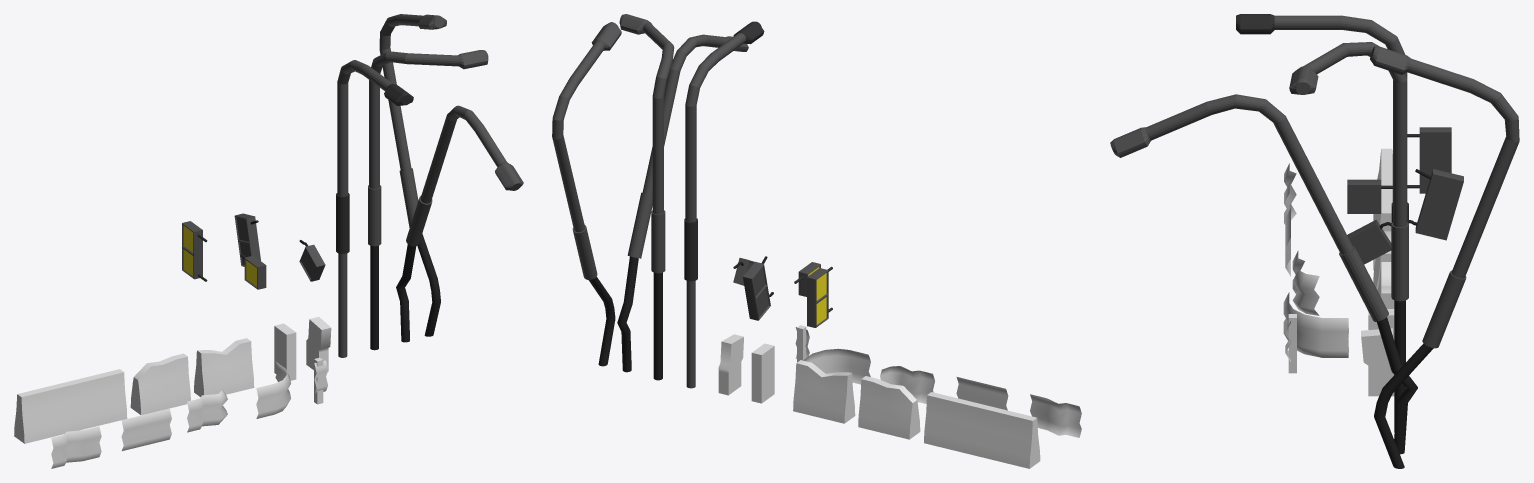
File: all2.fbx
The picture shows the model from 3 angles, left to right: view 1: azimuth 30°, elevation 25°; view 2: azimuth 150°, elevation 25°; view 3: azimuth 270°, elevation 25°; orthographic projection. The views are drawn at different scales.
Parts seen in each view (by area): view 1: Barrier, StreetLight_Turned, StreetLight, StreetLight_Bent_1, StreetLight_Bent_2, Barrier_Dmg_2, Barrier_Dmg_1, Barrier_M_1_Dmg, Barrier_M, Barrier_M_2_Dmg, Barrier_Bent, Pedestrian_1_Light (+5 smaller); view 2: Barrier, StreetLight_Turned, StreetLight, StreetLight_Bent_2, StreetLight_Bent_1, Barrier_Dmg_2, Barrier_Dmg_1, Barrier_M_1_Dmg, Barrier_Bent, Cube_dmg, Cube, Pedestrian_1_Light (+3 smaller); view 3: StreetLight_Bent_2, StreetLight_Bent_1, StreetLight_Turned, StreetLight, Pedestrian_1_Light_Dmg, Barrier_Bent, Pedestrian_1_Light, Cube_dmg, Pedestrian_2_Light, Pedestrian_2_Light_Dmg, Barrier_M_2_Dmg, Barrier (+3 smaller).
Part boxes in pixels (x1,y1,x2,y2): Barrier: [14, 369, 127, 443]; StreetLight_Turned: [368, 50, 488, 350]; StreetLight: [336, 60, 413, 357]; StreetLight_Bent_1: [396, 105, 523, 342]; StreetLight_Bent_2: [379, 14, 446, 336]; Barrier_Dmg_2: [130, 353, 190, 415]; Barrier_Dmg_1: [194, 338, 254, 397]; Barrier_M_1_Dmg: [51, 426, 101, 468]; Barrier_M: [121, 408, 171, 450]; Barrier_M_2_Dmg: [187, 386, 227, 432]; Barrier_Bent: [256, 361, 290, 418]; Pedestrian_1_Light: [182, 221, 207, 281]; Barrier: [924, 392, 1040, 468]; StreetLight_Turned: [619, 14, 674, 380]; StreetLight: [684, 21, 764, 388]; StreetLight_Bent_2: [552, 22, 621, 366]; StreetLight_Bent_1: [617, 34, 748, 372]; Barrier_Dmg_2: [858, 376, 920, 439]; Barrier_Dmg_1: [793, 360, 855, 423]; Barrier_M_1_Dmg: [1030, 394, 1081, 437]; Barrier_Bent: [803, 348, 870, 384]; Cube_dmg: [718, 334, 743, 395]; Cube: [751, 343, 774, 403]; Pedestrian_1_Light: [807, 266, 832, 327]; StreetLight_Bent_2: [1370, 46, 1519, 468]; StreetLight_Bent_1: [1110, 94, 1417, 454]; StreetLight_Turned: [1289, 42, 1408, 432]; StreetLight: [1236, 14, 1408, 223]; Pedestrian_1_Light_Dmg: [1409, 169, 1463, 240]; Barrier_Bent: [1283, 292, 1348, 357]; Pedestrian_1_Light: [1407, 127, 1451, 193]; Cube_dmg: [1361, 328, 1394, 396]; Pedestrian_2_Light: [1347, 179, 1392, 213]; Pedestrian_2_Light_Dmg: [1347, 219, 1391, 264]; Barrier_M_2_Dmg: [1292, 250, 1319, 315]; Barrier: [1373, 148, 1392, 270].
Size of the model in its own units: 139 by 98.07 by 86.65.
